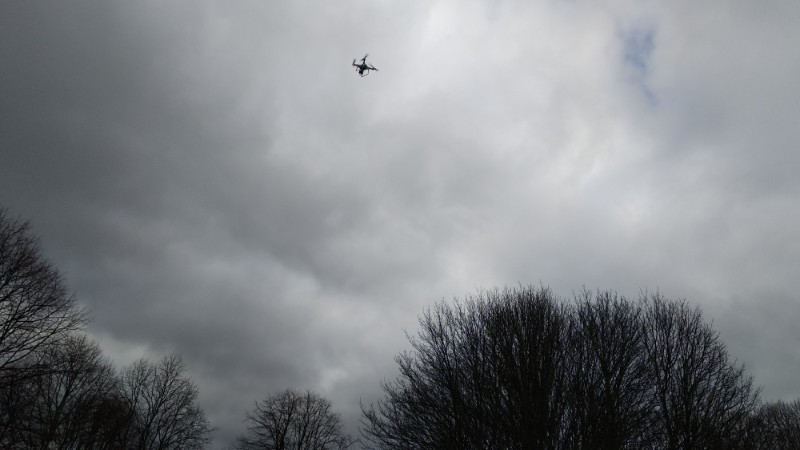drone: (351, 55, 382, 76)
